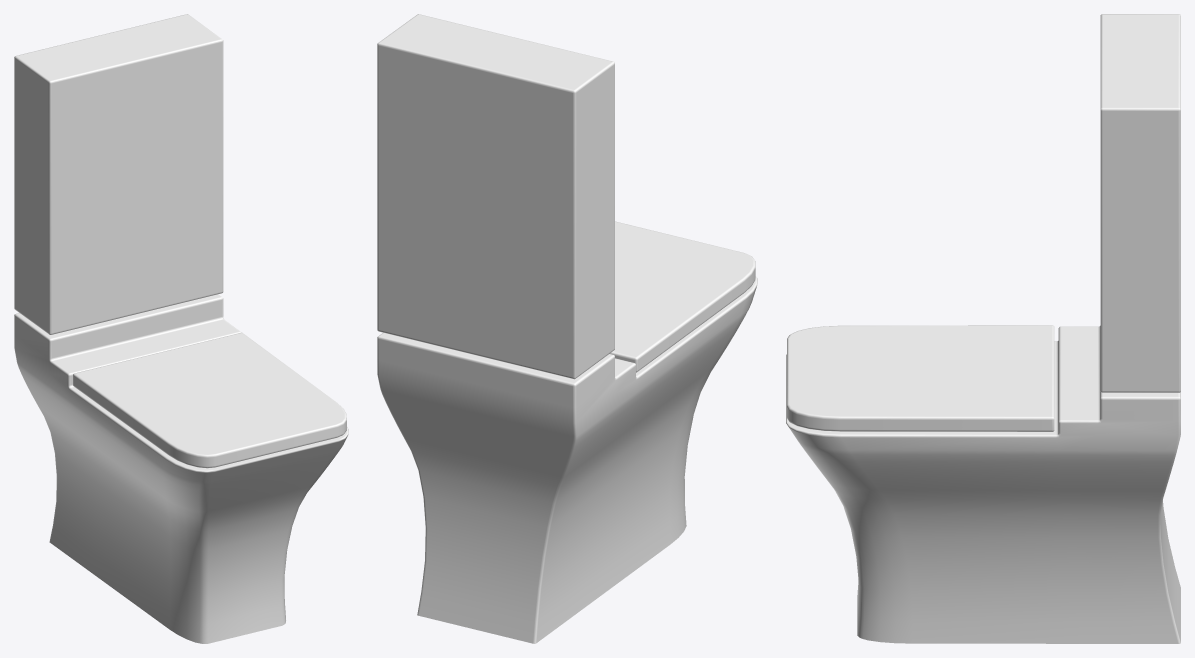
File: Toilet.dae
3 views of the same model, side by side, from view 1: azimuth 30°, elevation 25°; view 2: azimuth 150°, elevation 25°; view 3: azimuth 270°, elevation 25° (orthographic). The views are drawn at different scales.
Parts seen in each view (by area): view 1: Toilet; view 2: Toilet; view 3: Toilet.
Boxes of the visible parts, x1=… form: Toilet: x1=14, y1=14, x2=348, y2=643; Toilet: x1=377, y1=14, x2=757, y2=643; Toilet: x1=786, y1=14, x2=1180, y2=643.
Bounding box in the file's own units: 0.3597 × 0.6291 × 0.9746.
1 material, 1 textured.
